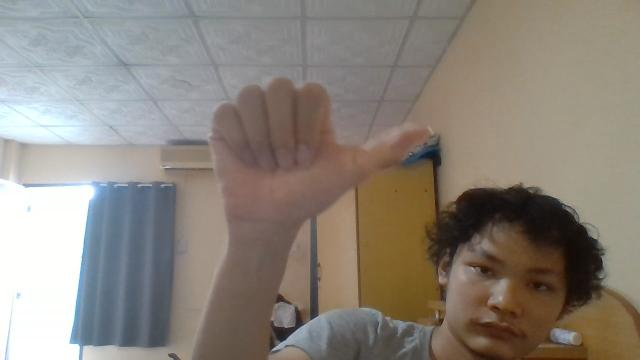left: (207, 76, 435, 228)
